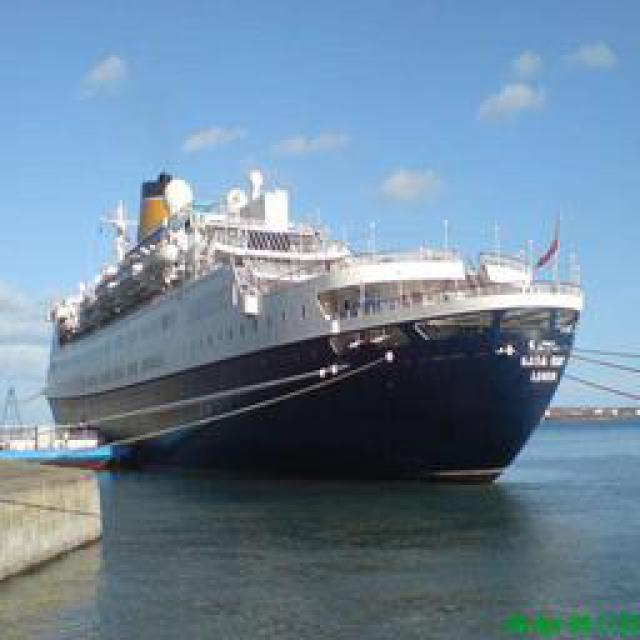Ship: (33, 183, 588, 471)
